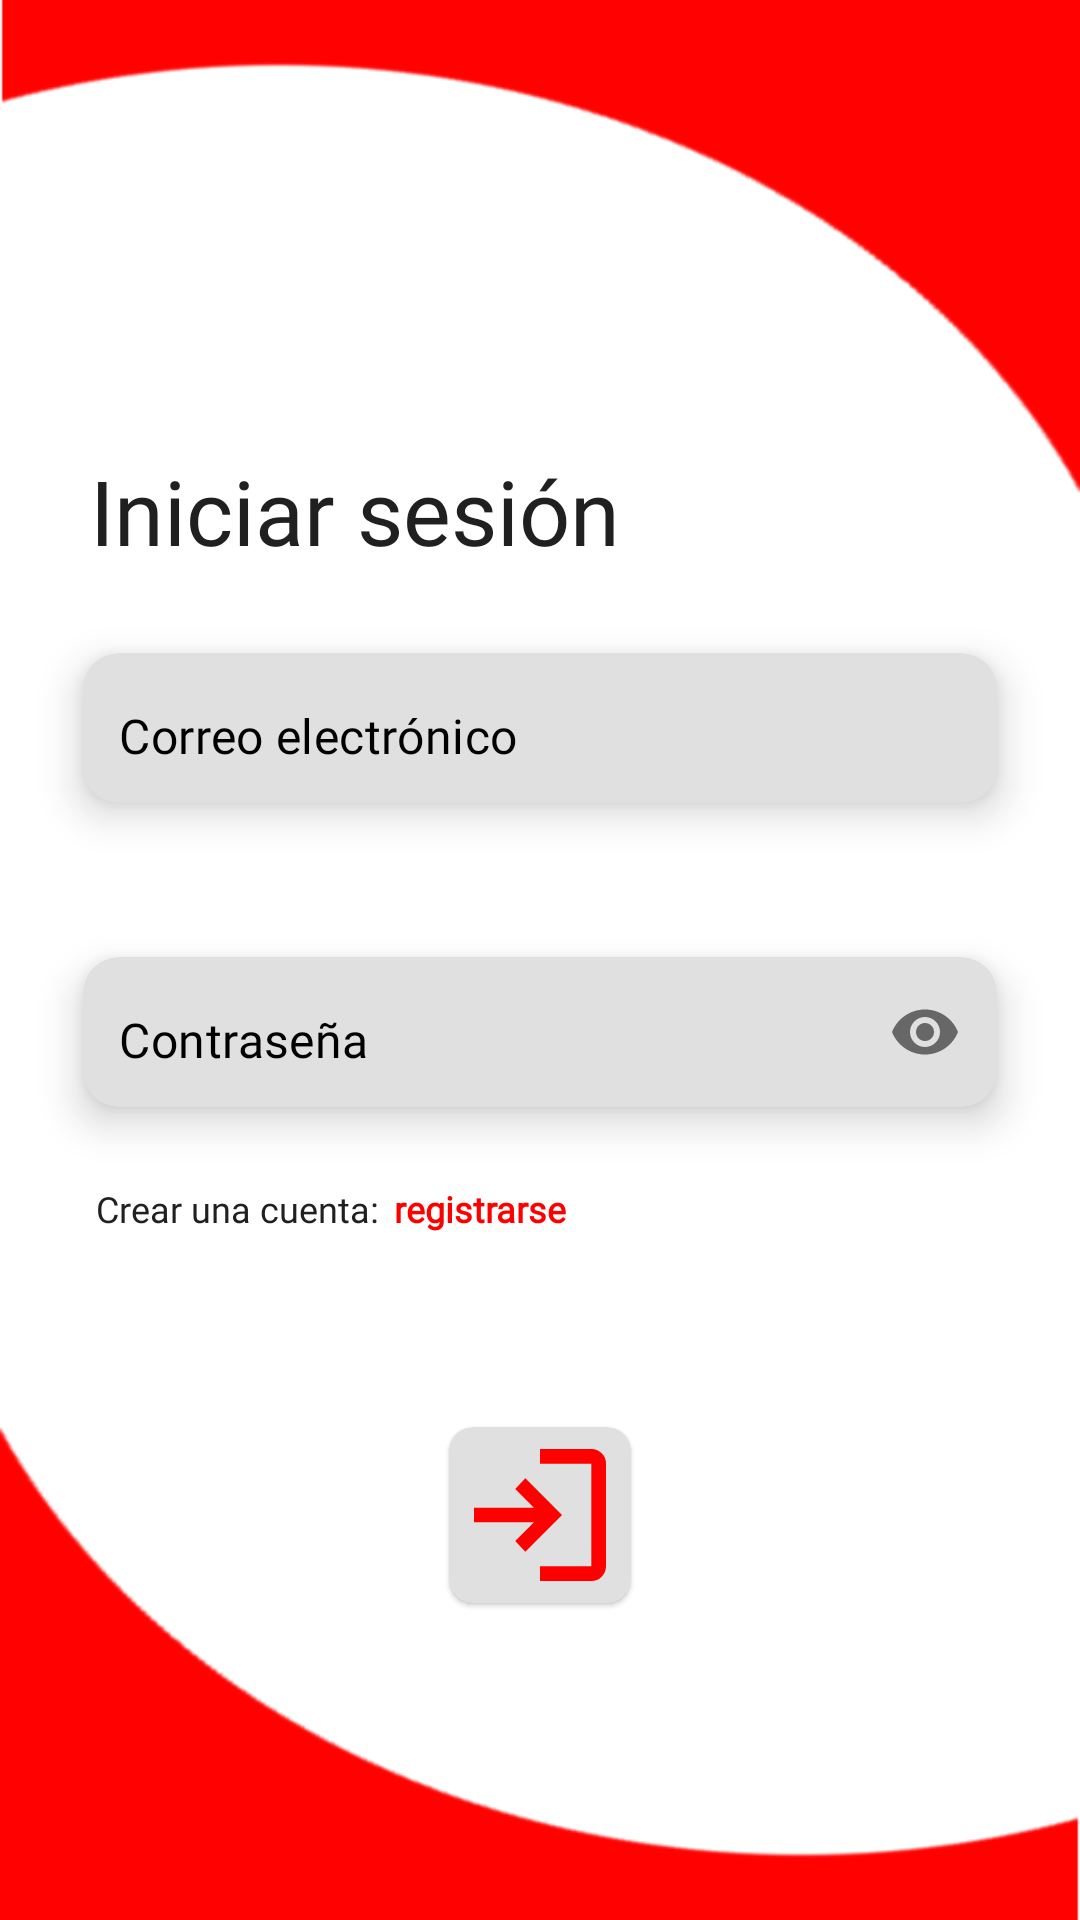

Where icons sit on this 1080*1920 app screen, as box=[x1, y1, x2, y2]:
login: box=[449, 1427, 631, 1603]
